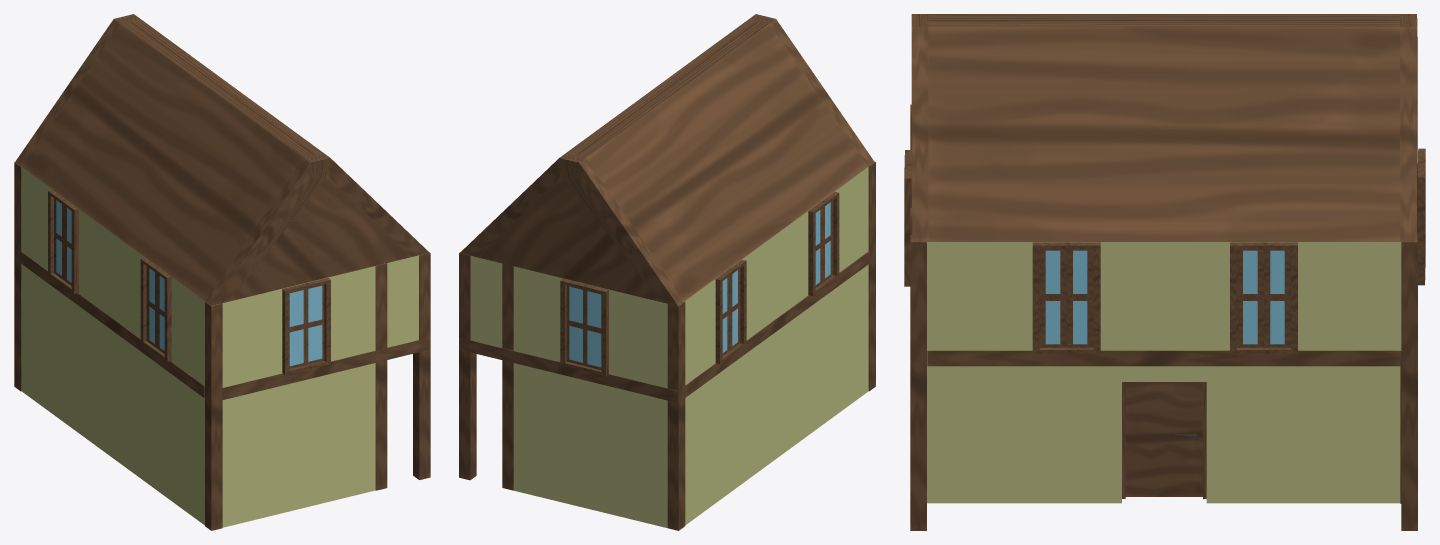
Rendered from MedievalHouse.fbx.
The picture shows the model from 3 angles, left to right: view 1: azimuth 30°, elevation 25°; view 2: azimuth 150°, elevation 25°; view 3: azimuth 270°, elevation 25°; orthographic projection. The views are drawn at different scales.
Visible parts, largest first — view 1: MedievalHouse_LOD0; view 2: MedievalHouse_LOD0; view 3: MedievalHouse_LOD0.
Boxes of the visible parts, x1,y1,x2,y2 form: MedievalHouse_LOD0: (14, 14, 430, 530); MedievalHouse_LOD0: (459, 14, 875, 530); MedievalHouse_LOD0: (904, 14, 1425, 530).
Size of what is drawn, in the model's own units: 5.67 by 8.17 by 8.74.
